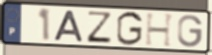1: (37, 7, 51, 43)
A: (52, 9, 86, 43)
G: (116, 10, 144, 47), (176, 14, 205, 49)
H: (144, 12, 177, 48)
Z: (86, 10, 114, 45)
